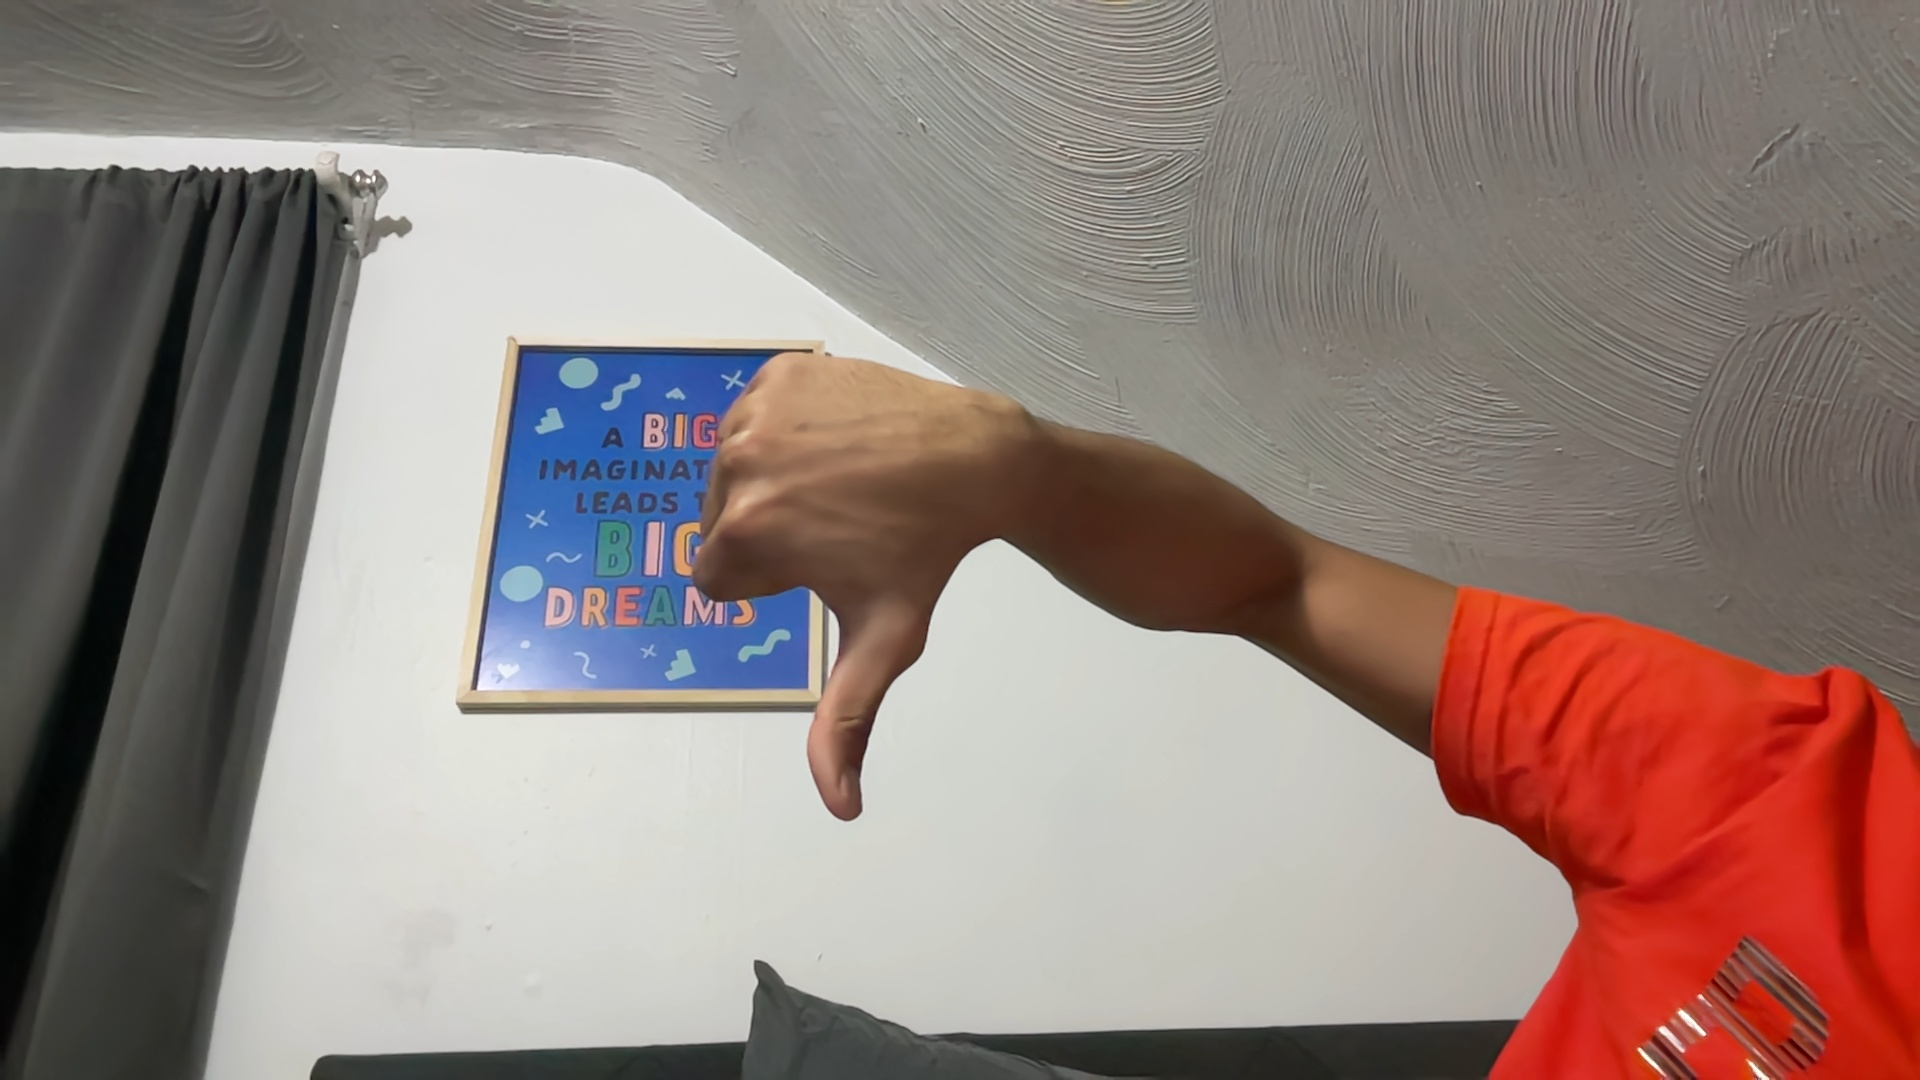ThumbsDown: (688, 348, 981, 828)
